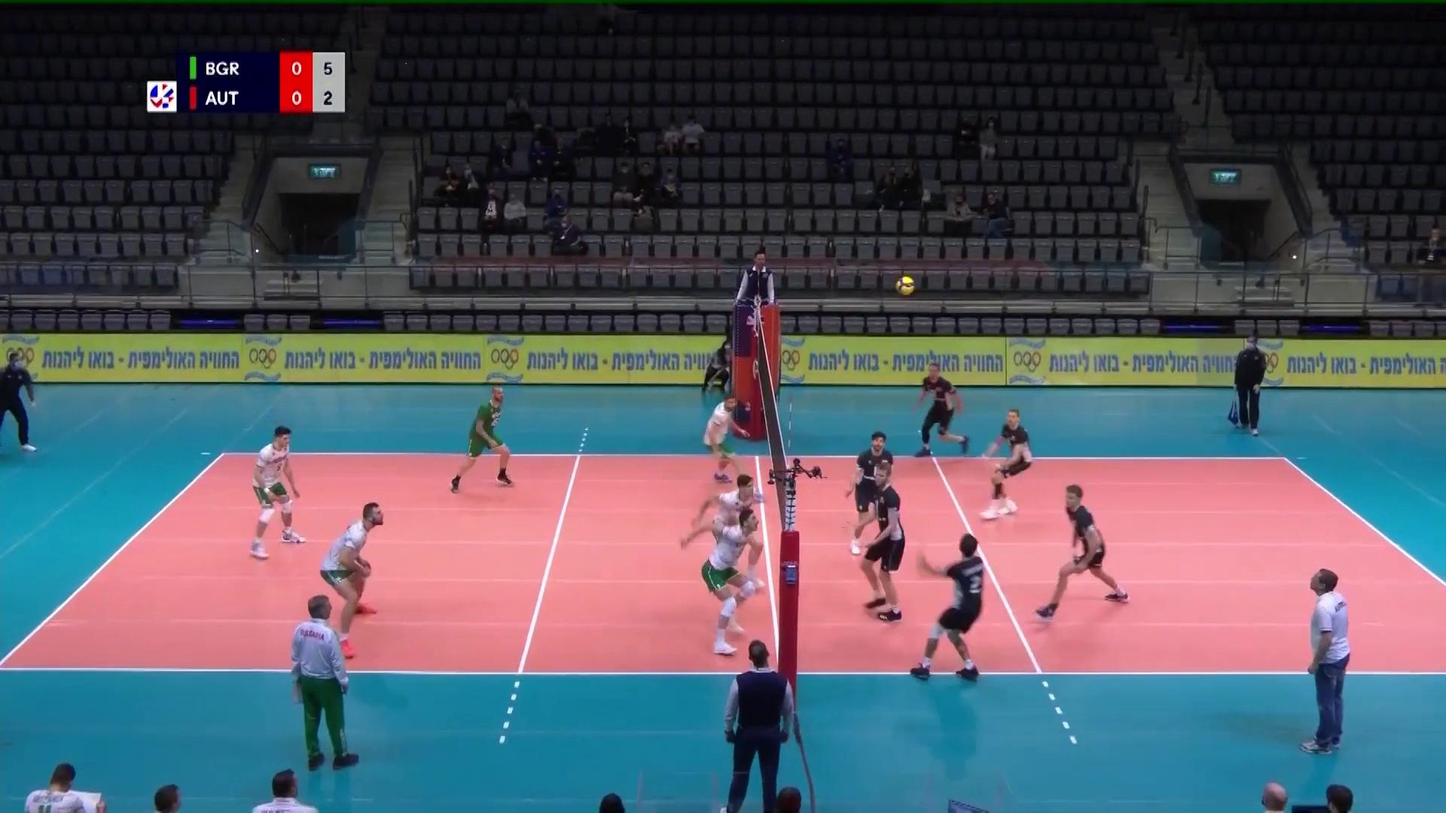ball: (894, 275, 916, 295)
